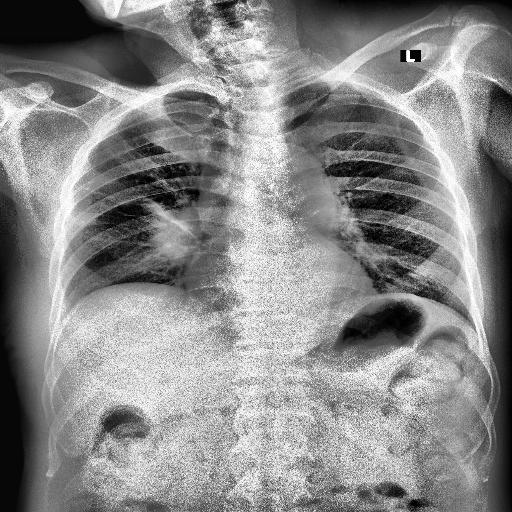0- Aortic enlargement: (196, 142, 340, 242), (244, 147, 334, 213), (263, 144, 339, 212)
13- Pulmonary fibrosis: (72, 134, 196, 248), (142, 198, 200, 244), (71, 184, 105, 196)
4- Consolidation: (138, 198, 201, 262)
7- Lung Opacity: (138, 198, 201, 262), (162, 212, 206, 264)
8- Nodule-Mass: (162, 212, 206, 264)
